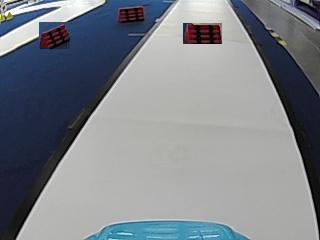bomb: (118, 5, 144, 21)
